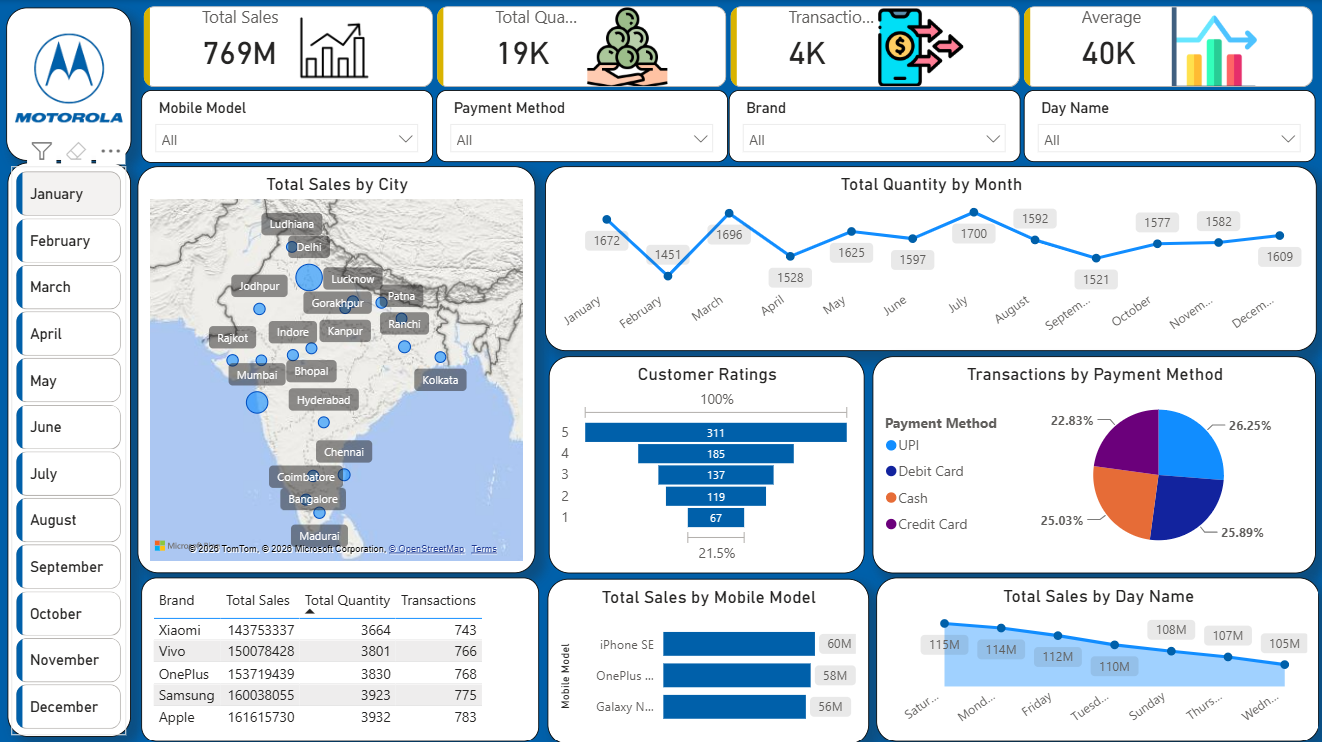

Layout of this report page (visuals, bound fields, positions):
{"tool":"powerbi","page":{"name":"Page 1","canvas":[1280,720],"ordinal":0},"visuals":[{"type":"shape","box":[5.5,6.9,120.8,148.2],"z":0},{"type":"image","box":[9.6,16.5,113.9,116.6],"z":1000},{"type":"shape","box":[6.9,156.4,119.4,554.4],"z":2000},{"type":"advancedSlicerVisual","fields":{"Values":["Sales_Data.Date.Variation.Date Hierarchy.Month"]},"box":[11,160.5,111.1,548.9],"z":3000},{"type":"cardVisual","fields":{"Data":["Sales_Data.Total Sales","Sales_Data.Total Quantity","Sales_Data.Transactions","Sales_Data.Average"]},"box":[134,5.6,1140.1,83.7],"z":4000},{"type":"map","fields":{"Category":["Sales_Data.City"],"Size":["Sales_Data.Total Sales"]},"box":[132.9,160.8,384.1,393.1],"z":5000},{"type":"lineChart","fields":{"Y":["Sales_Data.Total Quantity"],"Category":["Sales_Data.Date.Variation.Date Hierarchy.Month","Sales_Data.Date.Variation.Date Hierarchy.Day"]},"box":[525.9,160.8,744.8,178.7],"z":6000},{"type":"clusteredBarChart","fields":{"Category":["Sales_Data.Mobile Model"],"Y":["Sales_Data.Total Sales"]},"box":[528.3,558.5,310.1,160.5],"z":7000},{"type":"pieChart","fields":{"Category":["Sales_Data.Payment Method"],"Y":["Sales_Data.Transactions"]},"box":[842.5,344.4,428.1,209.9],"z":8000},{"type":"funnel","title":"Customer Ratings","fields":{"Category":["Sales_Data.Customer Ratings"],"Y":["CountNonNull(Sales_Data.Customer Ratings)"]},"box":[529.7,344.4,304.6,209.9],"z":9000},{"type":"areaChart","fields":{"Category":["Sales_Data.Day Name"],"Y":["Sales_Data.Total Sales"]},"box":[845.3,557.1,428.1,159.2],"z":10000},{"type":"tableEx","fields":{"Values":["Sales_Data.Brand","Sales_Data.Total Sales","Sales_Data.Total Quantity","Sales_Data.Transactions"]},"box":[135.8,557.1,384.2,159.2],"z":11000},{"type":"slicer","fields":{"Values":["Sales_Data.Mobile Model"]},"box":[136.2,87.1,281.4,70.3],"z":12000},{"type":"slicer","fields":{"Values":["Sales_Data.Payment Method"]},"box":[421,87.1,281.4,69.2],"z":13000},{"type":"slicer","fields":{"Values":["Sales_Data.Brand"]},"box":[703.5,87.1,281.4,69.2],"z":14000},{"type":"slicer","fields":{"Values":["Sales_Data.Day Name"]},"box":[988.2,87.1,281.4,69.2],"z":15000}]}

Visuals, with their boxes in screenshot pixels (x1, y1, x2, y2), scaled from the page's 1280x720 canvas onto the 1322x742 screenshot:
shape: left=6, top=7, right=130, bottom=160
image: left=10, top=17, right=128, bottom=137
shape: left=7, top=161, right=130, bottom=733
advancedSlicerVisual - Sales_Data.Date.Variation.Date Hierarchy.Month: left=11, top=165, right=126, bottom=731
cardVisual - Sales_Data.Total Sales x Sales_Data.Total Quantity: left=138, top=6, right=1316, bottom=92
map - Sales_Data.City x Sales_Data.Total Sales: left=137, top=166, right=534, bottom=571
lineChart - Sales_Data.Total Quantity x Sales_Data.Date.Variation.Date Hierarchy.Month: left=543, top=166, right=1312, bottom=350
clusteredBarChart - Sales_Data.Mobile Model x Sales_Data.Total Sales: left=546, top=576, right=866, bottom=741
pieChart - Sales_Data.Payment Method x Sales_Data.Transactions: left=870, top=355, right=1312, bottom=571
"Customer Ratings" funnel: left=547, top=355, right=862, bottom=571
areaChart - Sales_Data.Day Name x Sales_Data.Total Sales: left=873, top=574, right=1315, bottom=738
tableEx - Sales_Data.Brand x Sales_Data.Total Sales: left=140, top=574, right=537, bottom=738
slicer - Sales_Data.Mobile Model: left=141, top=90, right=431, bottom=162
slicer - Sales_Data.Payment Method: left=435, top=90, right=725, bottom=161
slicer - Sales_Data.Brand: left=727, top=90, right=1017, bottom=161
slicer - Sales_Data.Day Name: left=1021, top=90, right=1311, bottom=161
